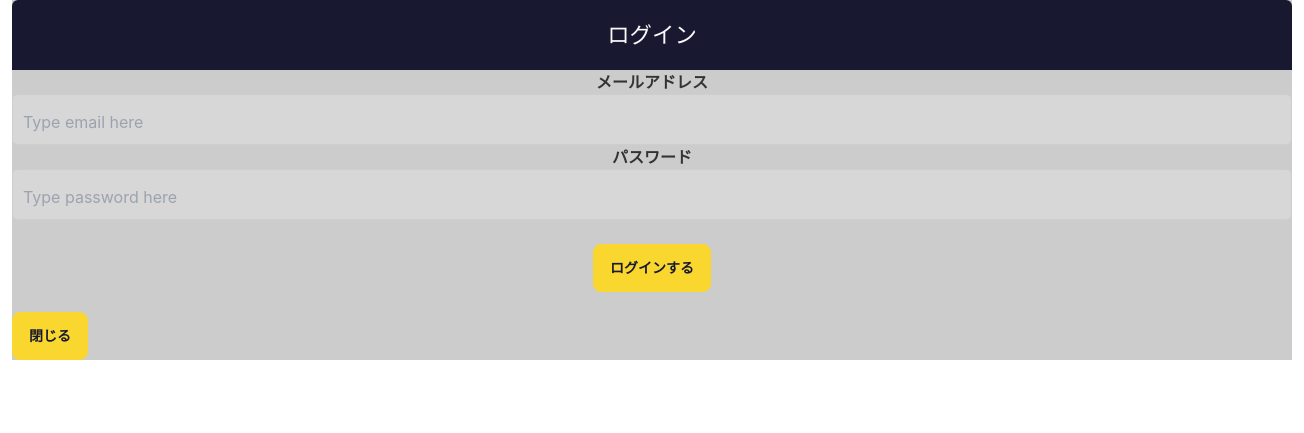
Test: SignIn password › パスワードが空の場合、エラーメッセージを表示
Type "test@example.com" into the field with placeholder "Type email here". click: (652, 119)
box: left=12, top=94, right=1292, bottom=145
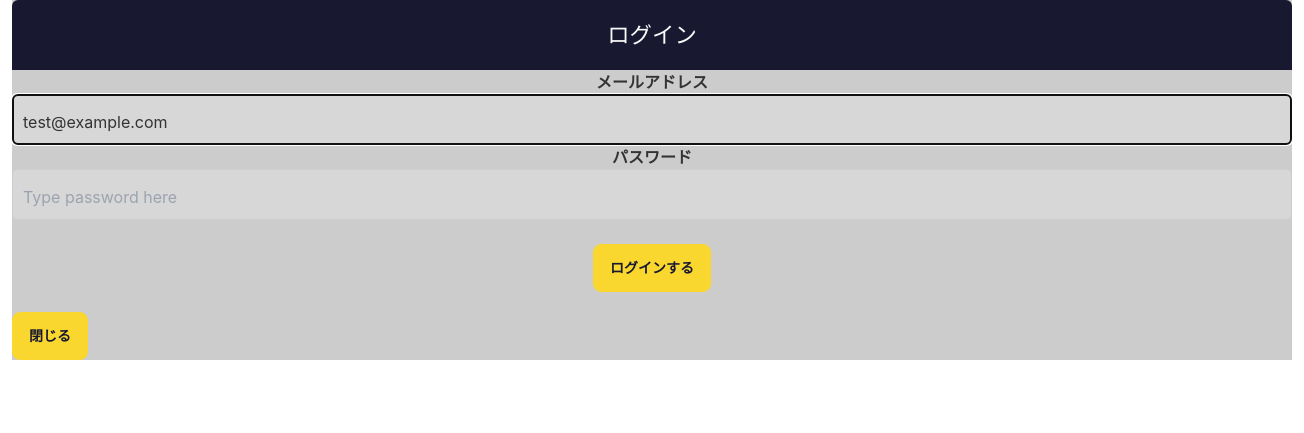
Click the button "ログインする". click: (652, 268)
box: left=593, top=244, right=711, bottom=292
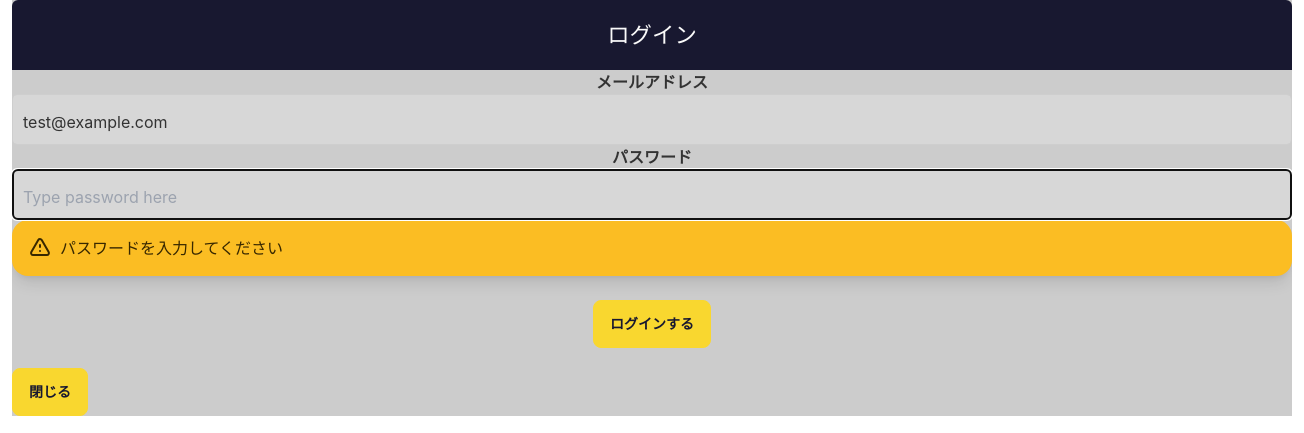
Expected: the text "パスワードを入力してください" is shown, left=60, top=236, right=283, bottom=260
